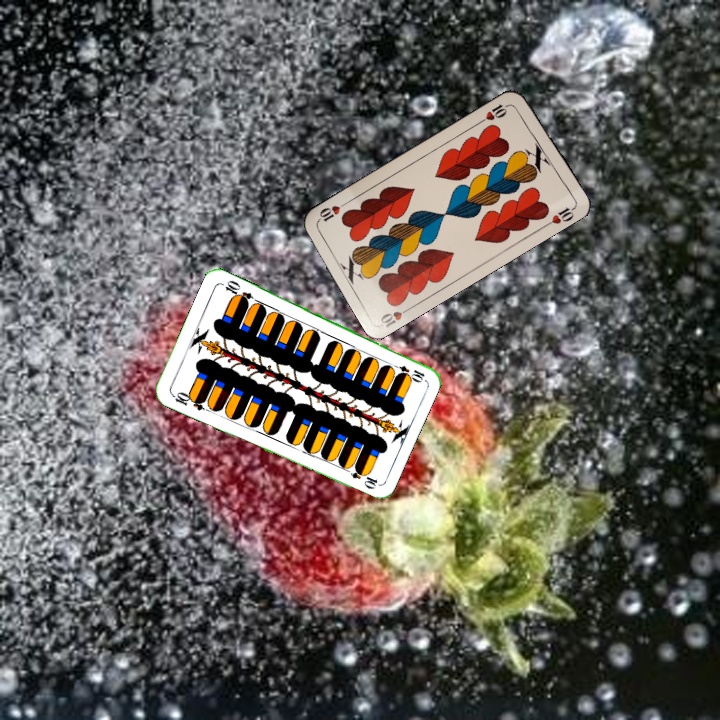E10: (387, 359, 427, 384), (168, 388, 208, 413)
H10: (376, 302, 415, 330), (476, 100, 513, 125)
